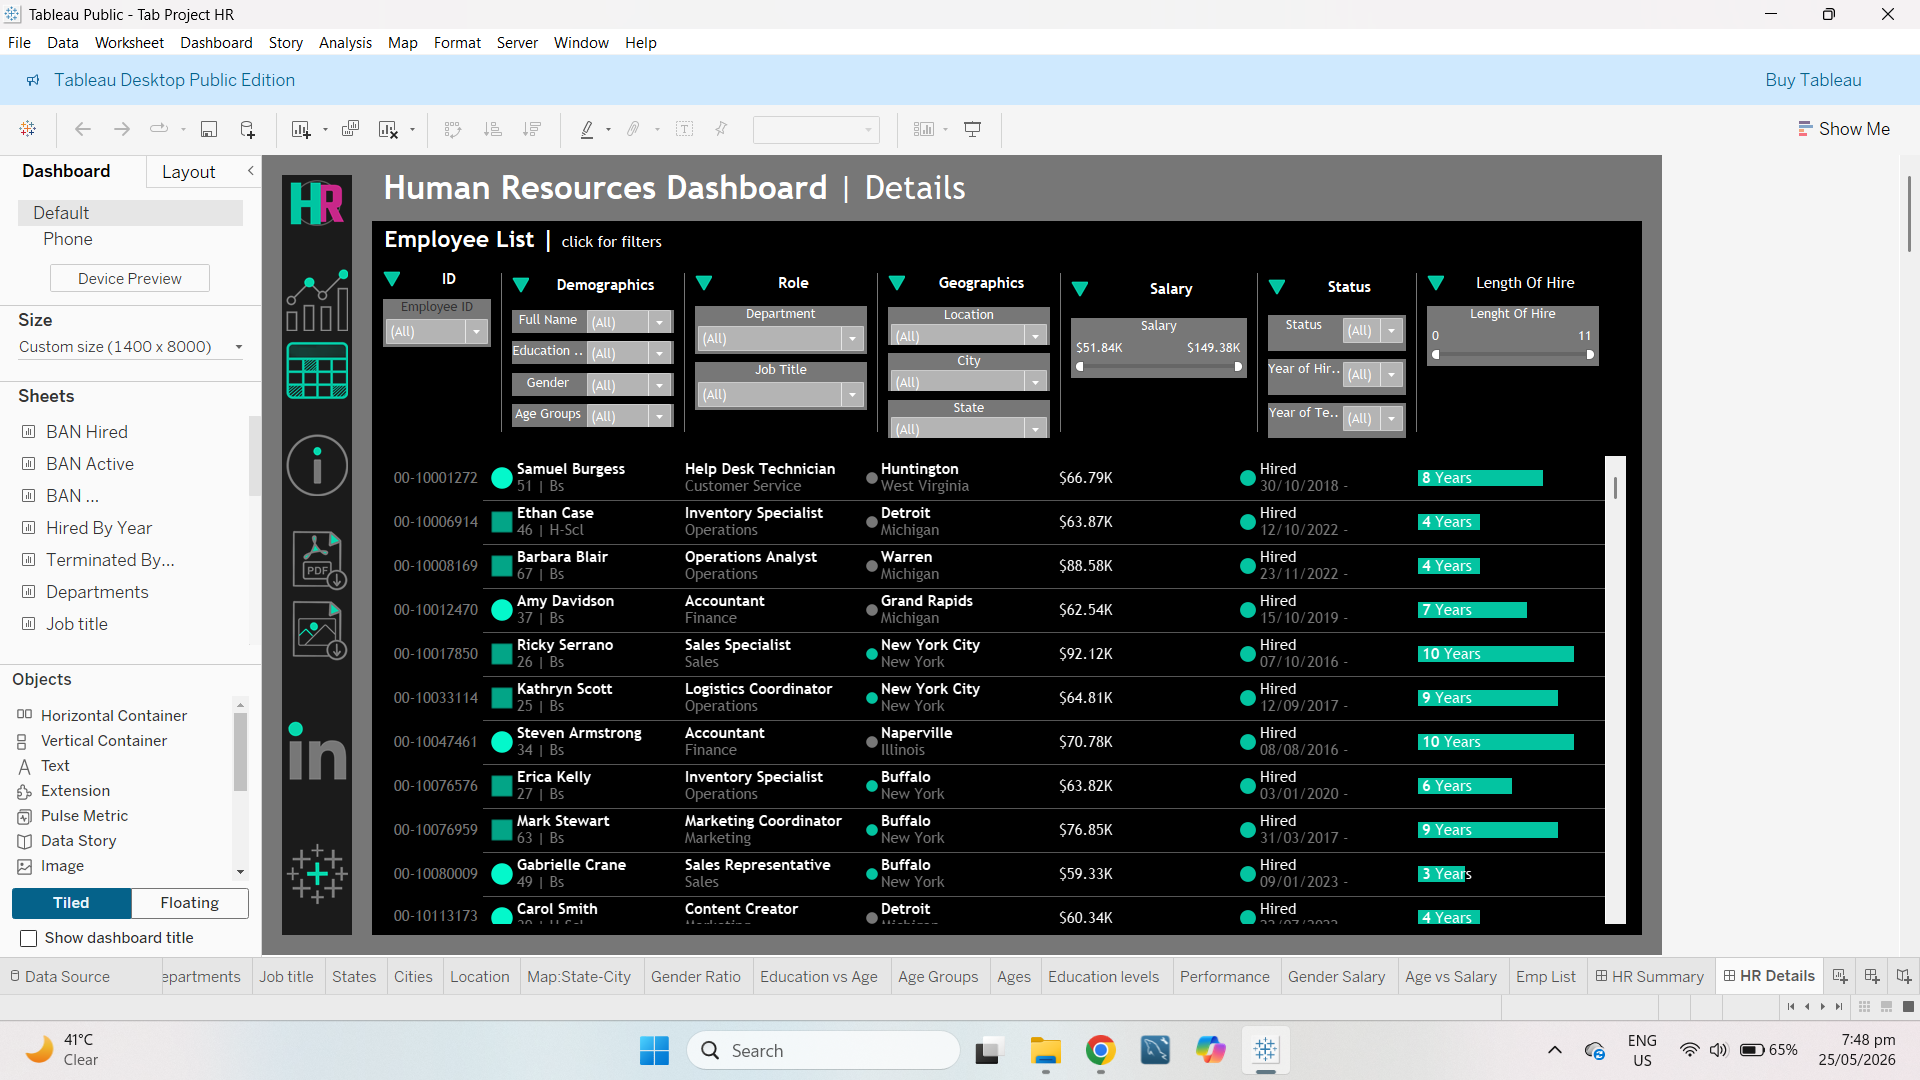

This screenshot's page, from the dashboard's own definition file:
{"tool":"tableau","page":{"name":"HR Details","canvas":[1400,8000],"ordinal":0},"visuals":[{"type":"text","box":[110,0,795,65]},{"type":"blank","box":[905,0,475,65]},{"type":"image","param":"Image/Logo.png","box":[20,20,70,55]},{"type":"text","box":[110,66.1,1270,35]},{"type":"blank","box":[20,75,70,35]},{"type":"dashboard-object","box":[117,108.2,25,32]},{"type":"text","box":[142,108.2,90,32]},{"type":"blank","box":[233,108.2,13,179]},{"type":"dashboard-object","box":[246,108.2,25,43]},{"type":"text","box":[271,108.2,145,43]},{"type":"blank","box":[416,108.2,13,179]},{"type":"dashboard-object","box":[429,108.2,25,39]},{"type":"text","box":[454,108.2,155,39]},{"type":"blank","box":[609,108.2,13,179]},{"type":"dashboard-object","box":[622,108.2,25,40]},{"type":"text","box":[647,108.2,145,40]},{"type":"blank","box":[792,108.2,13,179]},{"type":"dashboard-object","box":[805,108.2,25,51]},{"type":"text","box":[830,108.2,159,51]},{"type":"blank","box":[989,108.2,13,179]},{"type":"dashboard-object","box":[1002,108.2,25,48]},{"type":"text","box":[1027,108.2,121,48]},{"type":"blank","box":[1148,108.2,13,179]},{"type":"dashboard-object","box":[1161,108.2,25,39]},{"type":"text","box":[1186,108.2,155,39]},{"type":"dashboard-object","box":[20,110.1,70,70]},{"type":"filter","title":"Emp List","param":"[federated.1uhzz1b15wnpmx18nr32u0xbp1uh].[none:Employee_ID:nk]","box":[117,140.2,116,56]},{"type":"filter","title":"Emp List","param":"[federated.1uhzz1b15wnpmx18nr32u0xbp1uh].[none:Department:nk]","box":[429,147.2,180,56]},{"type":"filter","title":"Emp List","param":"[federated.1uhzz1b15wnpmx18nr32u0xbp1uh].[sum:Calculation_940126484253630467:qk]","box":[1161,147.2,180,68]},{"type":"filter","title":"Emp List","param":"[federated.1uhzz1b15wnpmx18nr32u0xbp1uh].[none:Calculation_322007430433136648:nk","box":[622,148.2,170,46.3]},{"type":"filter","title":"Emp List","param":"[federated.1uhzz1b15wnpmx18nr32u0xbp1uh].[none:Calculation_940126484248305666:nk","box":[246,151.2,170,31.2]},{"type":"filter","title":"Emp List","param":"[federated.1uhzz1b15wnpmx18nr32u0xbp1uh].[none:Calculation_543246762846167040:nk","box":[1002,156.2,146,43.7]},{"type":"filter","title":"Emp List","param":"[federated.1uhzz1b15wnpmx18nr32u0xbp1uh].[sum:Salary:qk]","box":[805,159.2,184,68]},{"type":"text","box":[87,171,1312,231]},{"type":"dashboard-object","box":[20,180.1,70,70]},{"type":"filter","title":"Emp List","param":"[federated.1uhzz1b15wnpmx18nr32u0xbp1uh].[none:Education Level:nk]","box":[246,182.4,170,31.2]},{"type":"filter","title":"Emp List","param":"[federated.1uhzz1b15wnpmx18nr32u0xbp1uh].[none:City:nk]","box":[622,194.5,170,46.3]},{"type":"filter","title":"Emp List","param":"[federated.1uhzz1b15wnpmx18nr32u0xbp1uh].[yr:Hiredate:ok]","box":[1002,199.8,146,43.7]},{"type":"filter","title":"Emp List","param":"[federated.1uhzz1b15wnpmx18nr32u0xbp1uh].[none:Job Title:nk]","box":[429,203.2,180,56]},{"type":"filter","title":"Emp List","param":"[federated.1uhzz1b15wnpmx18nr32u0xbp1uh].[none:Gender:nk]","box":[246,213.6,170,31.2]},{"type":"filter","title":"Emp List","param":"[federated.1uhzz1b15wnpmx18nr32u0xbp1uh].[none:State:nk]","box":[622,240.8,170,46.4]},{"type":"filter","title":"Emp List","param":"[federated.1uhzz1b15wnpmx18nr32u0xbp1uh].[yr:Termdate:ok]","box":[1002,243.5,146,43.7]},{"type":"filter","title":"Emp List","param":"[federated.1uhzz1b15wnpmx18nr32u0xbp1uh].[none:Calculation_316659406179348481:nk","box":[246,244.8,170,31.4]},{"type":"blank","box":[20,250.1,70,25]},{"type":"dashboard-object","box":[20,275.1,70,70]},{"type":"worksheet","title":"Emp List","mark":"Shape","rows":["Employee_ID"],"cols":["Calculation_940126484246994945","Calculation_940126484246994945","Calculation_940126484246994945","Calculation_940126484246994945","Calculation_940126484246994945","Calculation_940126484253630467"],"box":[117,297.2,1256,475.8]},{"type":"blank","box":[20,345.1,70,25]},{"type":"dashboard-object","box":[20,370.2,70,70]},{"type":"dashboard-object","box":[20,440.2,70,70]},{"type":"blank","box":[20,510.2,70,25]},{"type":"image","param":"Image/contact-linkedin.png","box":[20,535.2,70,122.4]},{"type":"image","param":"Image/contact-public.png","box":[20,657.6,70,122.4]}]}

Visuals, with their boxes on the page's 1400x8000 design canvas (x1, y1, x2, y2). These are canvas units, not pixel positions in the 1920x1080 screenshot, which may show the page scaled, cropped or inside an application window:
text: 110, 0, 905, 65
blank: 905, 0, 1380, 65
image: 20, 20, 90, 75
text: 110, 66, 1380, 101
blank: 20, 75, 90, 110
dashboard-object: 117, 108, 142, 140
text: 142, 108, 232, 140
blank: 233, 108, 246, 287
dashboard-object: 246, 108, 271, 151
text: 271, 108, 416, 151
blank: 416, 108, 429, 287
dashboard-object: 429, 108, 454, 147
text: 454, 108, 609, 147
blank: 609, 108, 622, 287
dashboard-object: 622, 108, 647, 148
text: 647, 108, 792, 148
blank: 792, 108, 805, 287
dashboard-object: 805, 108, 830, 159
text: 830, 108, 989, 159
blank: 989, 108, 1002, 287
dashboard-object: 1002, 108, 1027, 156
text: 1027, 108, 1148, 156
blank: 1148, 108, 1161, 287
dashboard-object: 1161, 108, 1186, 147
text: 1186, 108, 1341, 147
dashboard-object: 20, 110, 90, 180
"Emp List" filter: 117, 140, 233, 196
"Emp List" filter: 429, 147, 609, 203
"Emp List" filter: 1161, 147, 1341, 215
"Emp List" filter: 622, 148, 792, 194
"Emp List" filter: 246, 151, 416, 182
"Emp List" filter: 1002, 156, 1148, 200
"Emp List" filter: 805, 159, 989, 227
text: 87, 171, 1399, 402
dashboard-object: 20, 180, 90, 250
"Emp List" filter: 246, 182, 416, 214
"Emp List" filter: 622, 194, 792, 241
"Emp List" filter: 1002, 200, 1148, 244
"Emp List" filter: 429, 203, 609, 259
"Emp List" filter: 246, 214, 416, 245
"Emp List" filter: 622, 241, 792, 287
"Emp List" filter: 1002, 244, 1148, 287
"Emp List" filter: 246, 245, 416, 276
blank: 20, 250, 90, 275
dashboard-object: 20, 275, 90, 345
"Emp List" worksheet (Shape marks): 117, 297, 1373, 773
blank: 20, 345, 90, 370
dashboard-object: 20, 370, 90, 440
dashboard-object: 20, 440, 90, 510
blank: 20, 510, 90, 535
image: 20, 535, 90, 658
image: 20, 658, 90, 780
